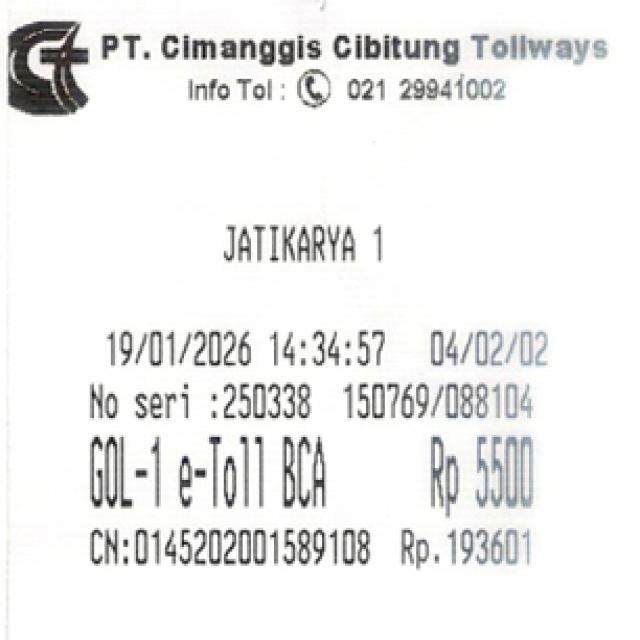date: (92, 327, 394, 368)
store: (94, 24, 611, 73)
total: (420, 437, 542, 515)
